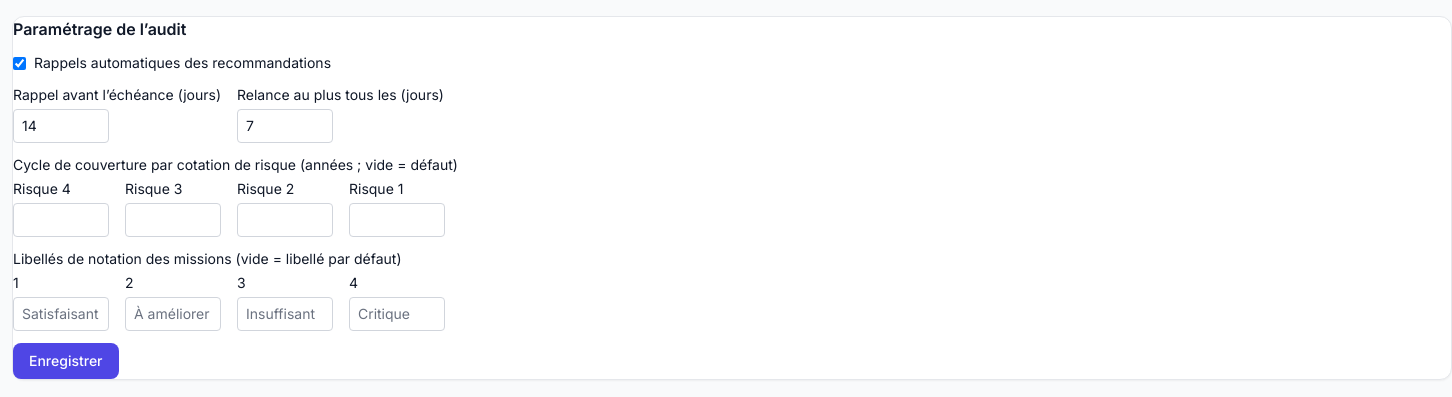
Test: AuditConfigEditor › ADMIN : modifie un cycle et enregistre par PUT
The image size is (1452, 397).
Type "2" into the number field labelled "Risque 4" at (61, 220), box left=13, top=203, right=109, bottom=237
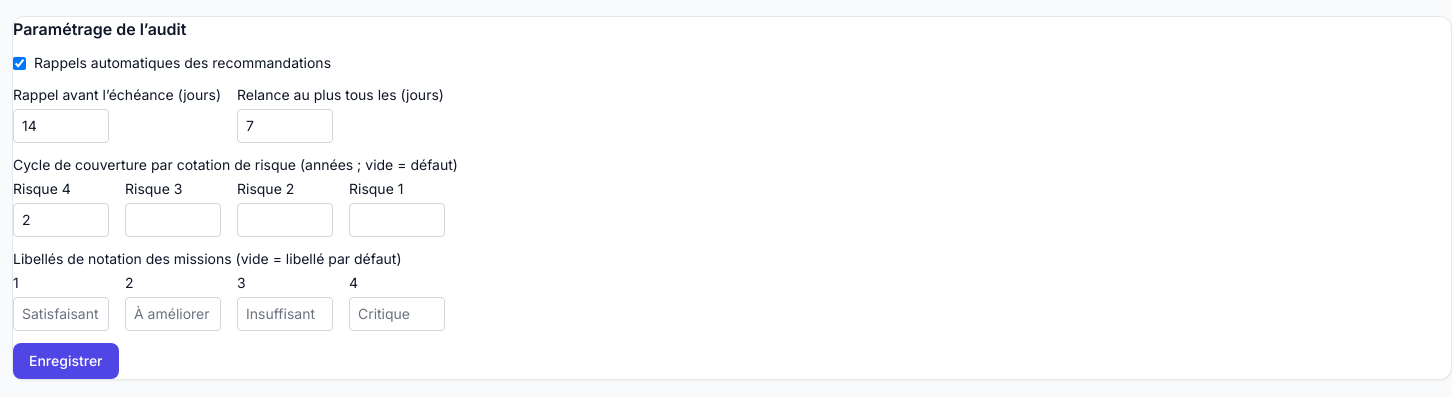
Click the button "Enregistrer" at (66, 361), box left=13, top=343, right=118, bottom=379
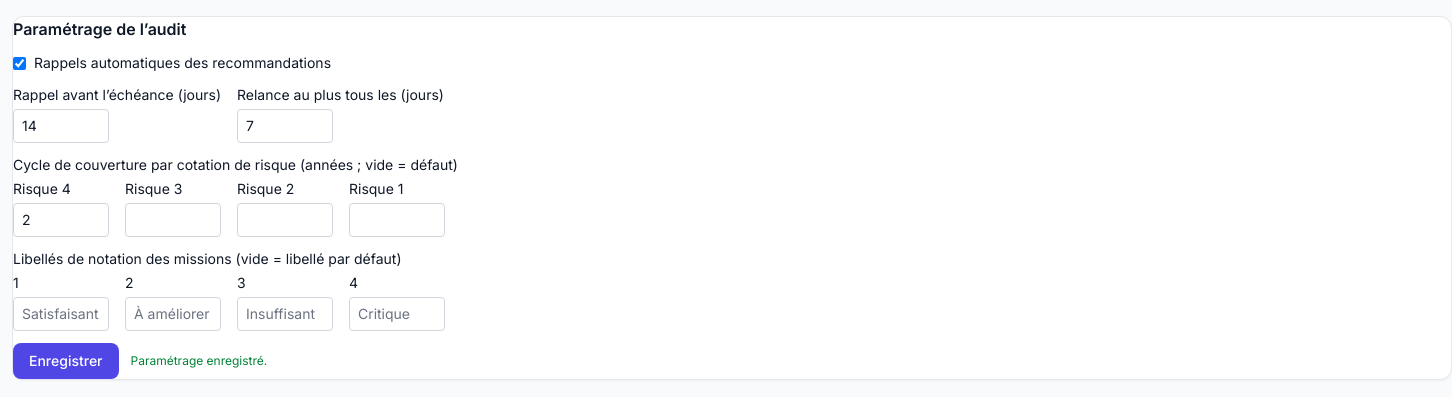
expect the message reads "Paramétrage enregistré.": met, box left=130, top=353, right=267, bottom=368
